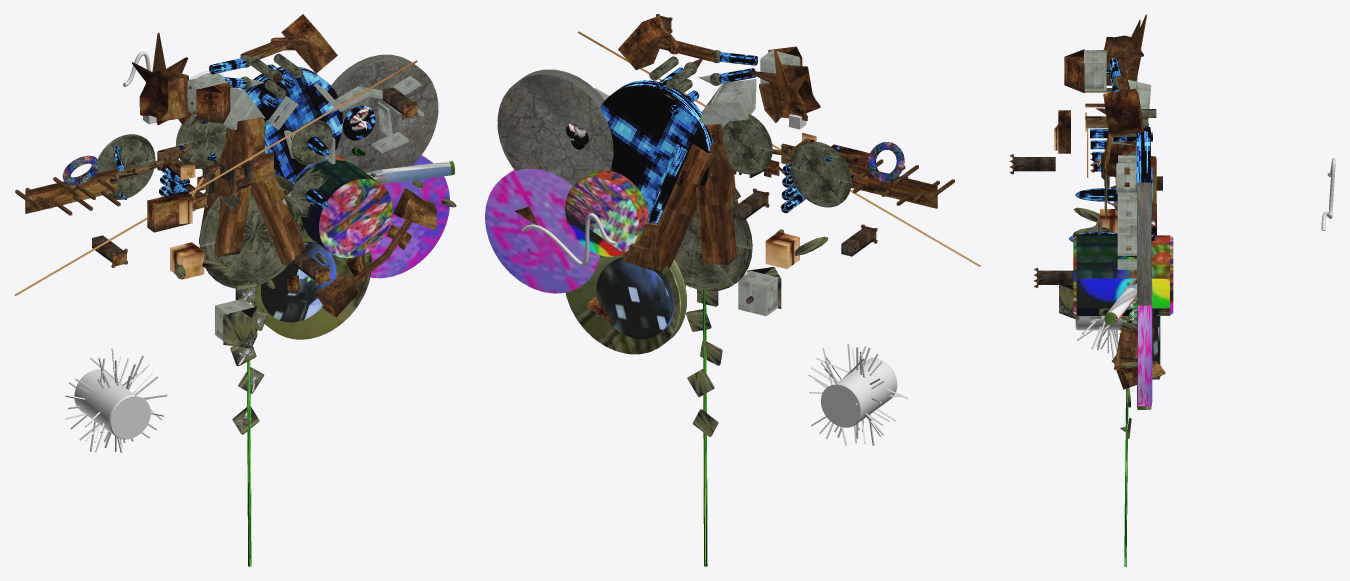
The model's file is funworld2.glb.
The picture shows the model from 3 angles, left to right: view 1: azimuth 30°, elevation 25°; view 2: azimuth 150°, elevation 25°; view 3: azimuth 270°, elevation 25°; orthographic projection. The views are drawn at different scales.
Visible parts, largest first — view 1: Cylinder.022, Cylinder.025, Sphere.008, Cylinder.015, Cylinder.023, Cylinder.020, Cylinder.027, Cube.058, Cube.055, Cylinder.024, Cube.056, Sphere.013 (+20 smaller); view 2: Cylinder.022, Cylinder.023, Cylinder.015, Cylinder.025, Cylinder.027, Cylinder.024, Cube.055, Cylinder.020, Sphere.008, Cube.056, Sphere.013, Cube.058 (+12 smaller); view 3: Cylinder.025, Cylinder.022, Cylinder.023, Cube.053, Cube.058, Cube.113, Cylinder.015, Cube.030, Cube.037, Cylinder.026, Cube.077, Cube.060 (+10 smaller).
Part boxes in pixels (x1,y1,x2,y2): Cylinder.022: [331, 54, 438, 171]; Cylinder.025: [293, 155, 392, 258]; Sphere.008: [199, 174, 304, 288]; Cylinder.015: [242, 67, 342, 182]; Cylinder.023: [370, 155, 449, 278]; Cylinder.020: [74, 369, 150, 439]; Cylinder.027: [261, 241, 336, 322]; Cube.058: [132, 33, 191, 125]; Cube.055: [199, 136, 251, 257]; Cylinder.024: [251, 234, 371, 339]; Cube.056: [251, 152, 305, 265]; Sphere.013: [96, 134, 155, 199]; Cylinder.022: [497, 69, 613, 185]; Cylinder.023: [485, 168, 600, 293]; Cylinder.015: [600, 80, 713, 210]; Cylinder.025: [565, 170, 648, 256]; Cylinder.027: [596, 257, 674, 339]; Cylinder.024: [565, 254, 686, 354]; Cube.055: [696, 143, 738, 264]; Cylinder.020: [820, 357, 897, 427]; Sphere.008: [674, 199, 752, 291]; Cube.056: [656, 143, 717, 272]; Sphere.013: [790, 141, 851, 207]; Cube.058: [749, 49, 820, 122]; Cylinder.025: [1073, 235, 1173, 315]; Cylinder.022: [1137, 182, 1151, 308]; Cylinder.023: [1137, 280, 1152, 406]; Cube.053: [1103, 88, 1144, 137]; Cube.058: [1103, 14, 1146, 84]; Cube.113: [1114, 322, 1154, 373]; Cylinder.015: [1136, 127, 1150, 192]; Cube.030: [1064, 49, 1084, 93]; Cube.037: [1104, 130, 1136, 176]; Cylinder.026: [1104, 279, 1136, 325]; Cube.077: [1014, 157, 1055, 171]; Cube.060: [1116, 163, 1136, 193].
Size of the model in its own units: 728 by 821 by 472.
79 materials, 79 textured.
